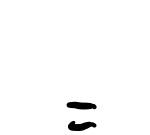eqv: (61, 97, 100, 132)
